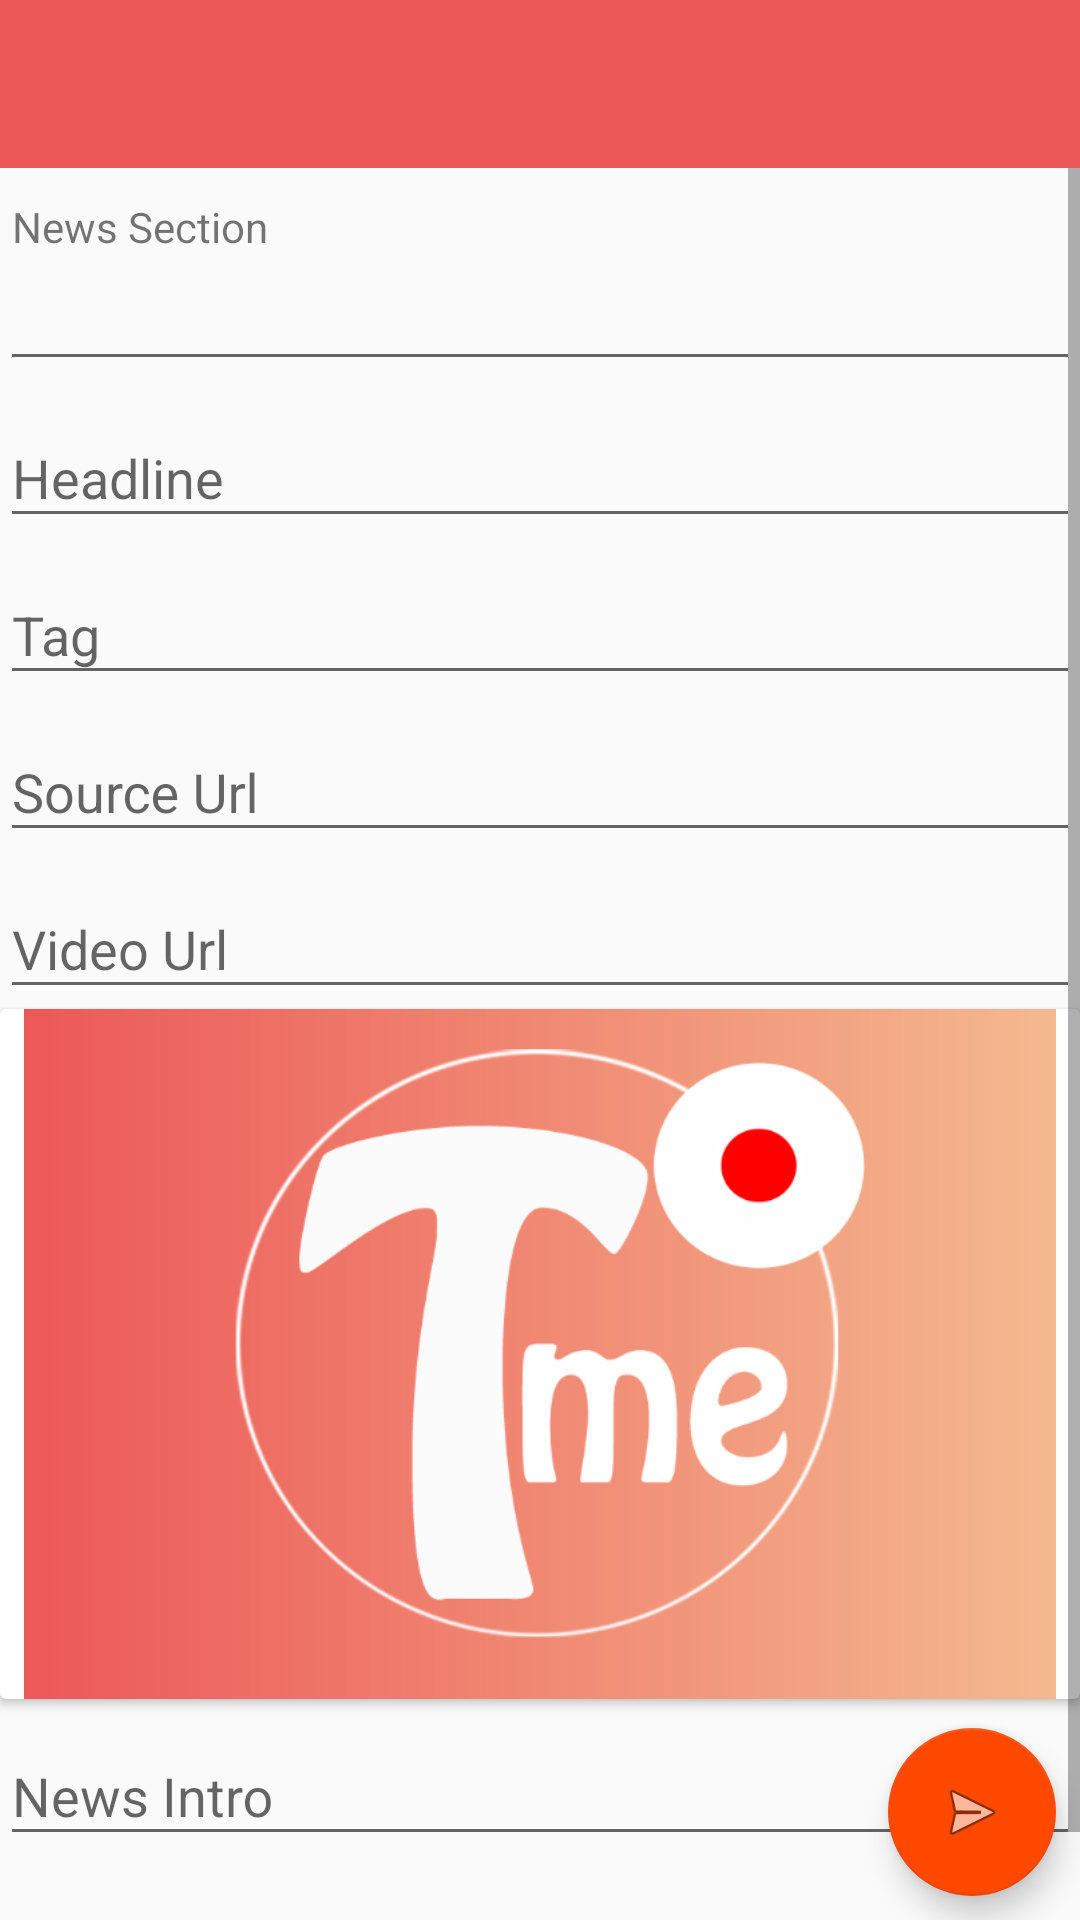

Icon bounding boxes for this 1080x1920 phone screenshot, format (x1, y1, x2, y2):
send: (888, 1728, 1056, 1896)
